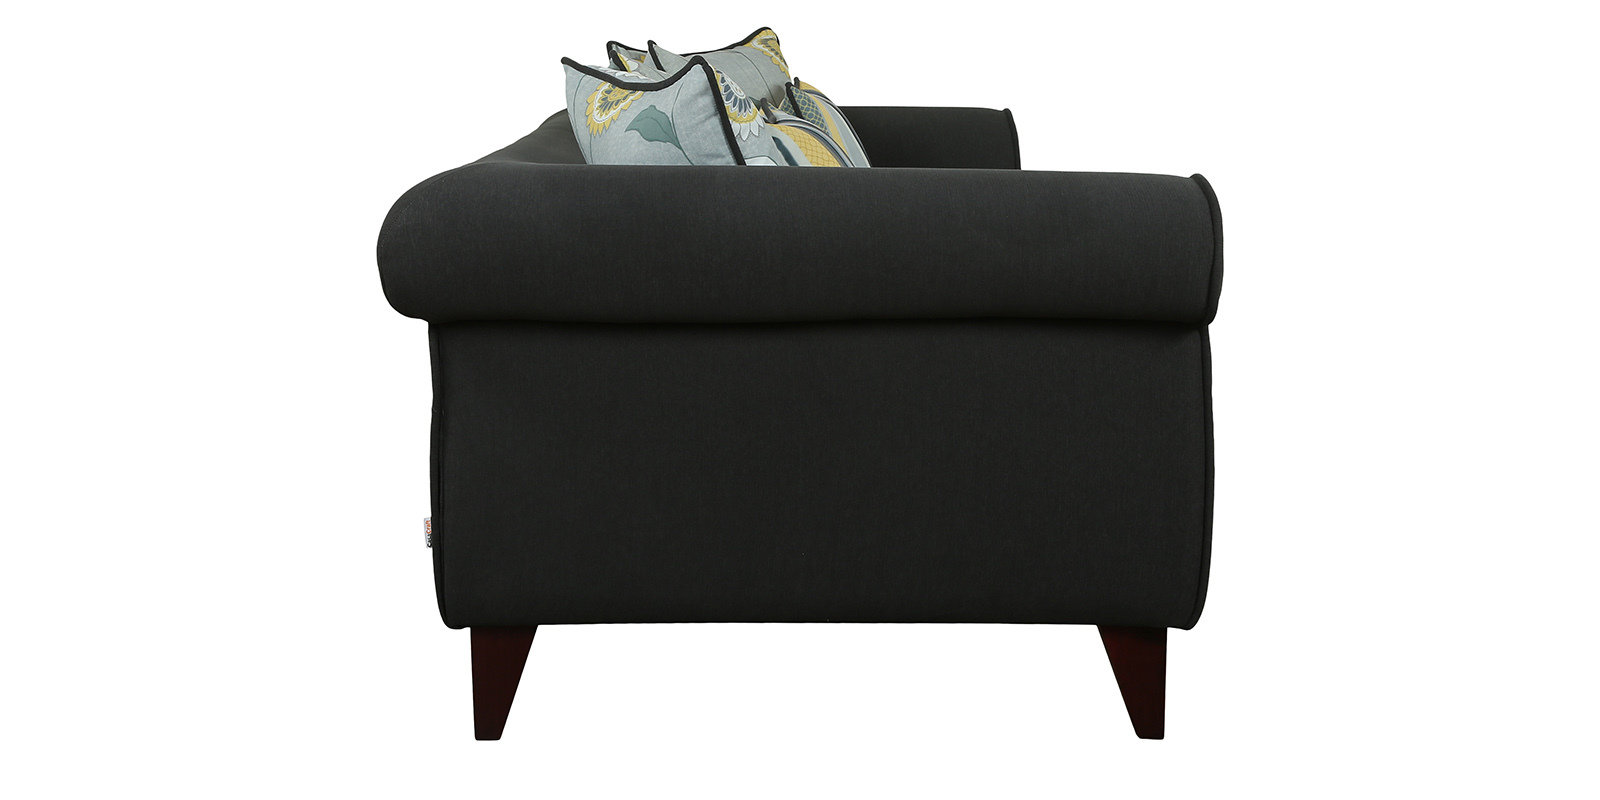Cielo Three Seater Sofa in Charcoal Grey Colour by CasaCraft: (378, 35, 1238, 772)
